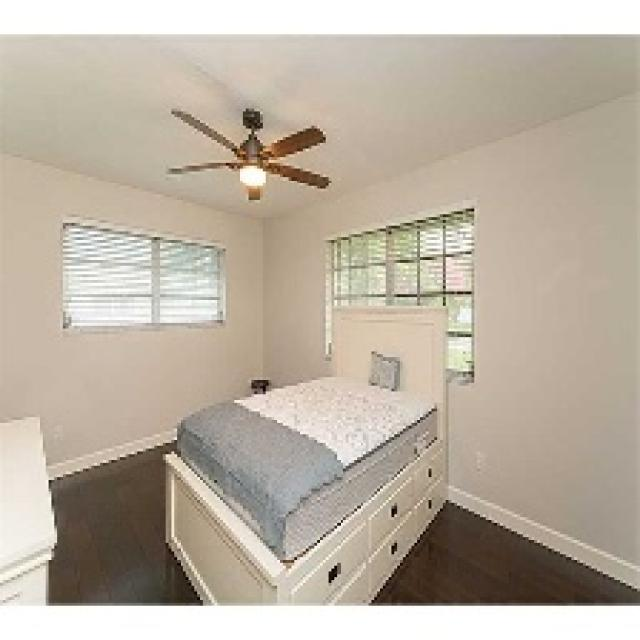Bed: (163, 303, 448, 603)
